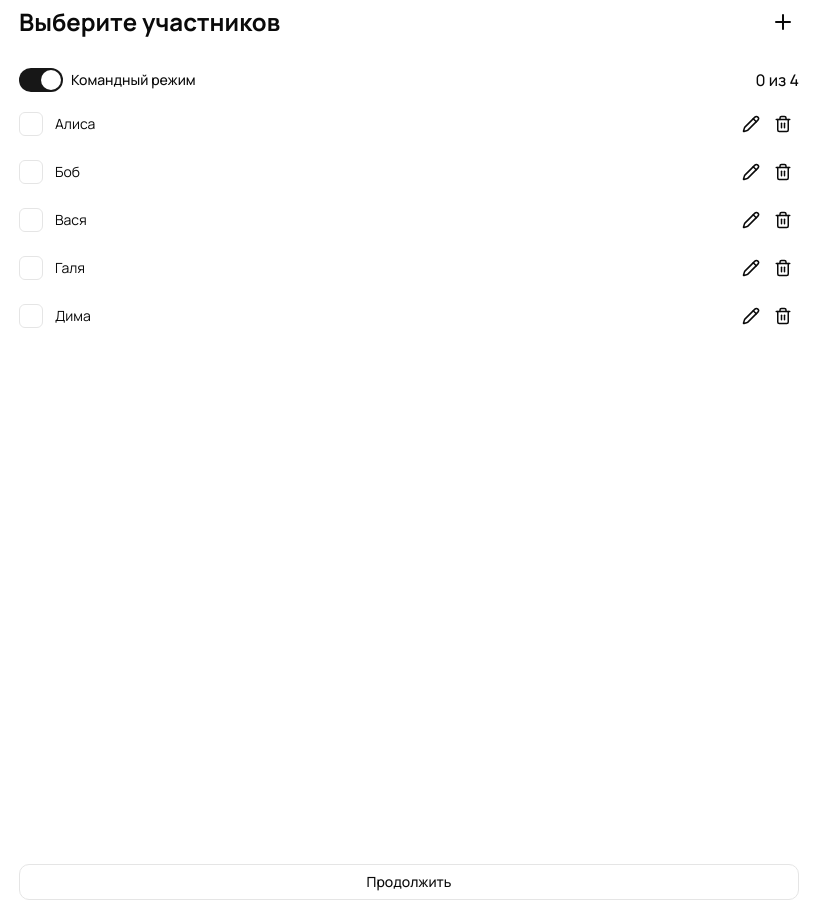
Participants page › подставляет сохранённое имя чёрных при обратном порядке выбора пары
# Вася раньше Алисы → чёрные всё ещё p3+p1, но порядок кликов обратный.
Click the checkbox named "Вася" next to "Вася" at (31, 220), box [19,208,43,232]
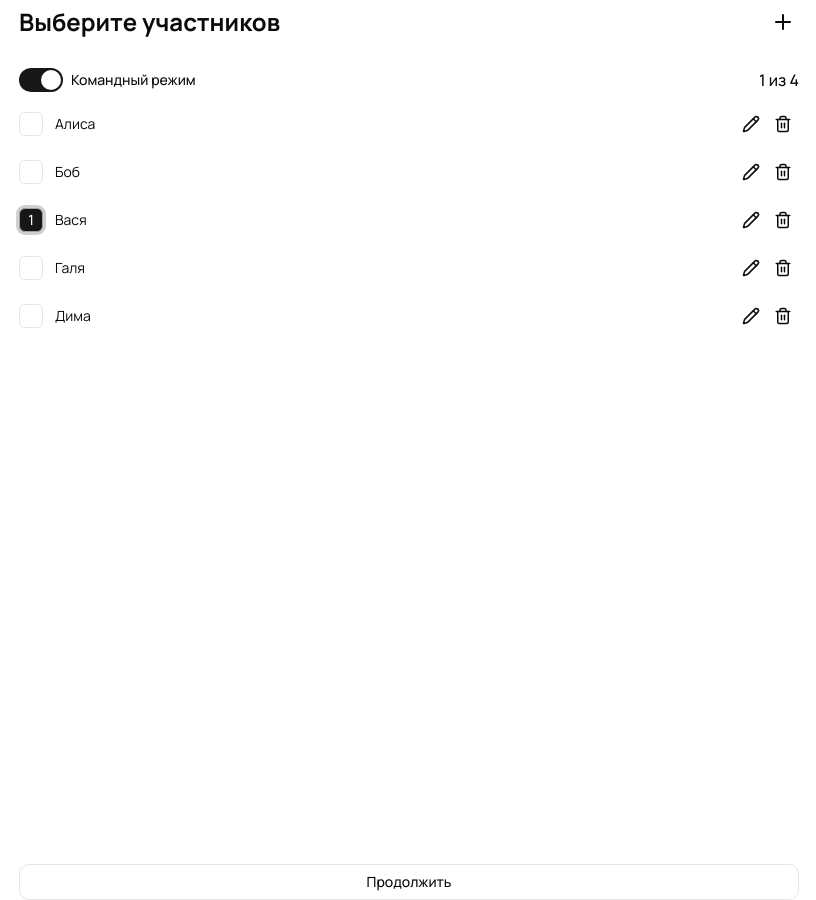
Click the checkbox named "Боб" next to "Боб" at (31, 172), box [19,160,43,184]
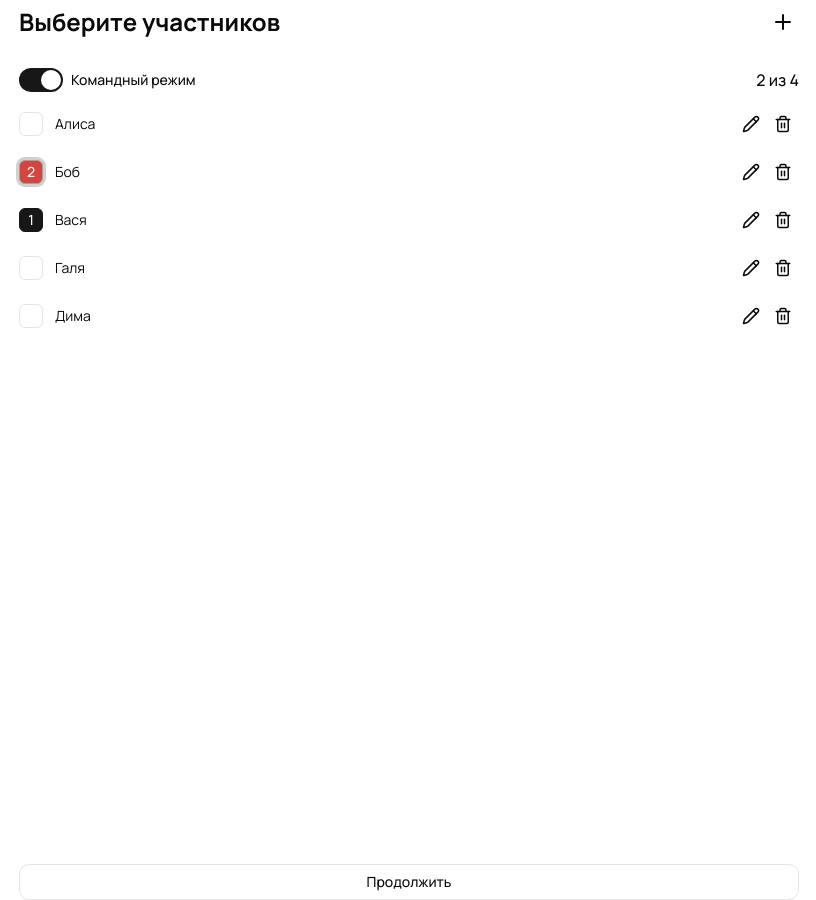
Click the checkbox named "Алиса" next to "Алиса" at (31, 124), box [19,112,43,136]
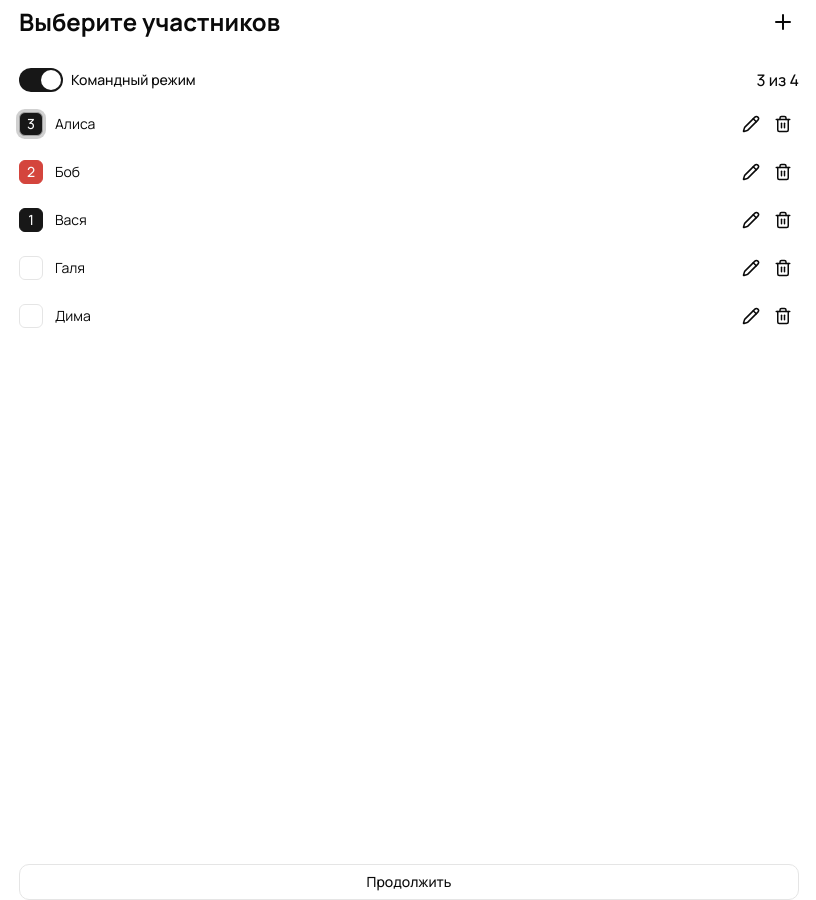
Click the checkbox named "Галя" next to "Галя" at (31, 268), box [19,256,43,280]
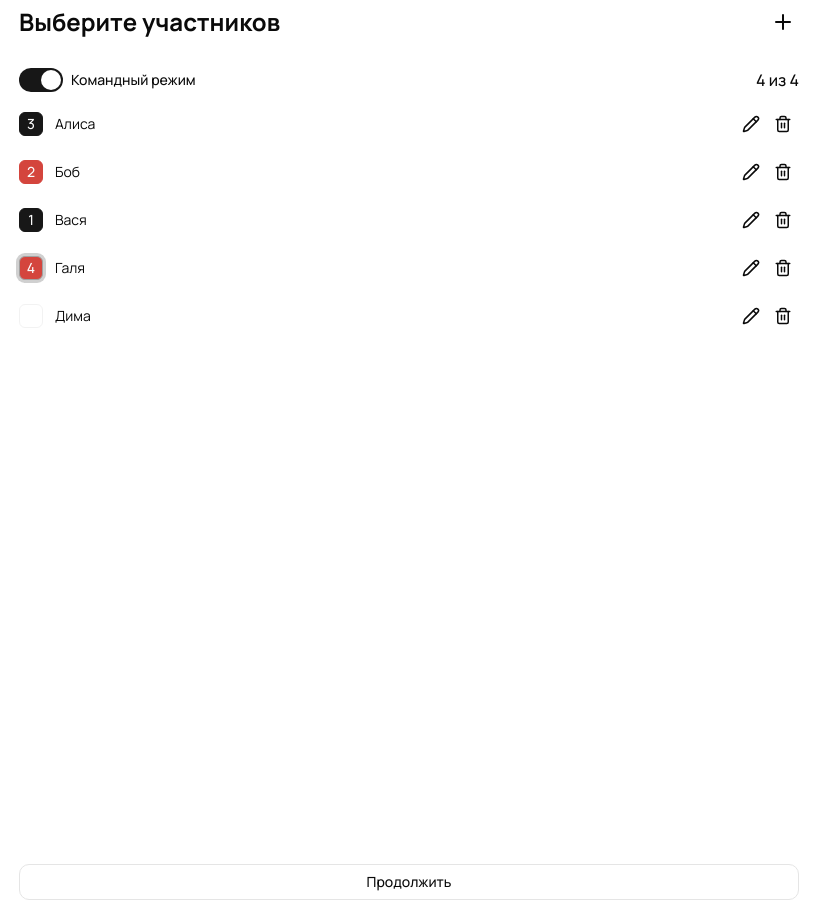
Click the button "Продолжить" at (409, 882), box [19,864,799,899]
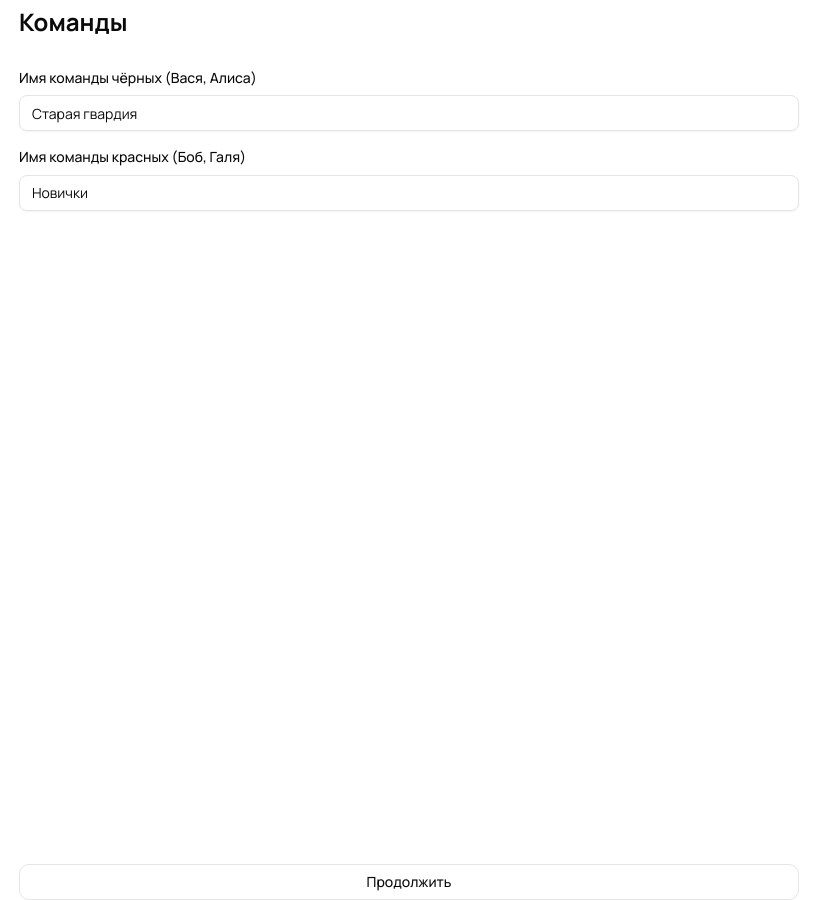
Now the field labelled "Имя команды чёрных (Вася, Алиса)" holds "Старая гвардия", box [19,95,799,131]
Now the field labelled "Имя команды красных (Боб, Галя)" holds "Новички", box [19,174,799,210]
